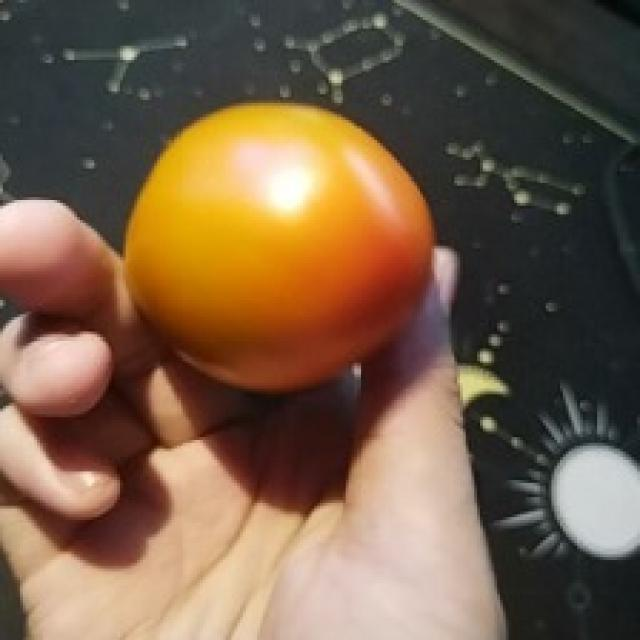Fresh Tomato: (105, 84, 485, 424)
